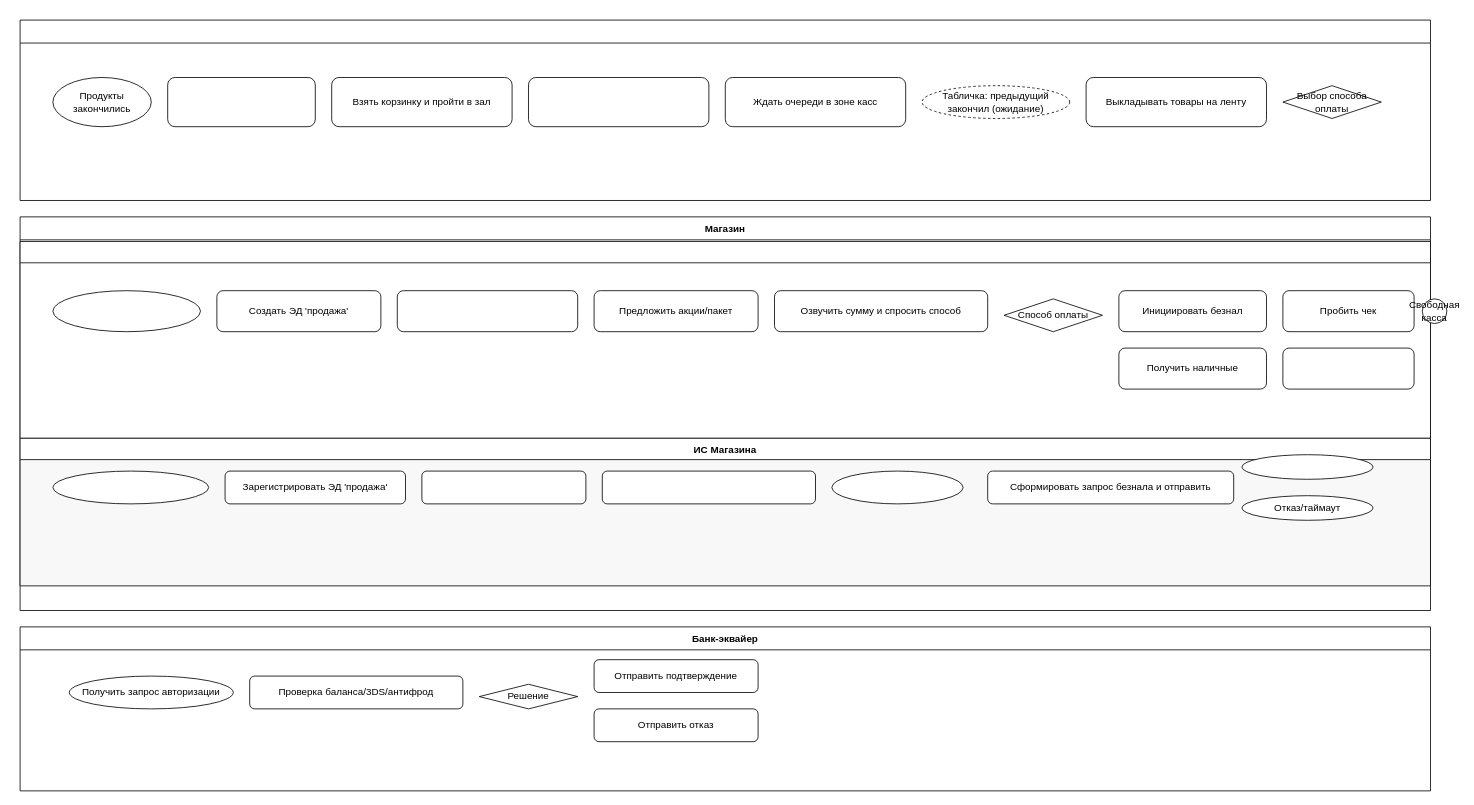
Image size: 1474x805. Some labels were removed from this diagram. The shapes that lost their labels are listed below. From the top down, each one's box as (x1, y1, x2, y2) in pixels, then its label:
(167, 77, 315, 127): Отправиться в магазин
(528, 77, 709, 127): Подбор товаров (по списку)
(19, 19, 1430, 200): Покупатель
(52, 290, 200, 332): Начать обслуживание (получен сигнал)
(396, 290, 578, 332): Пробить все товары (цикл)
(19, 241, 1430, 438): Кассир
(1282, 347, 1414, 389): Выдать сдачу (если нужно)
(1241, 454, 1373, 479): Оплата подтверждена
(52, 470, 209, 504): Создать ЭД 'продажа' (получено)
(421, 470, 586, 504): Получить пробитый товар
(601, 470, 815, 504): Сохранить позицию (транзакционно)
(831, 470, 963, 504): Подтверждение сохранения
